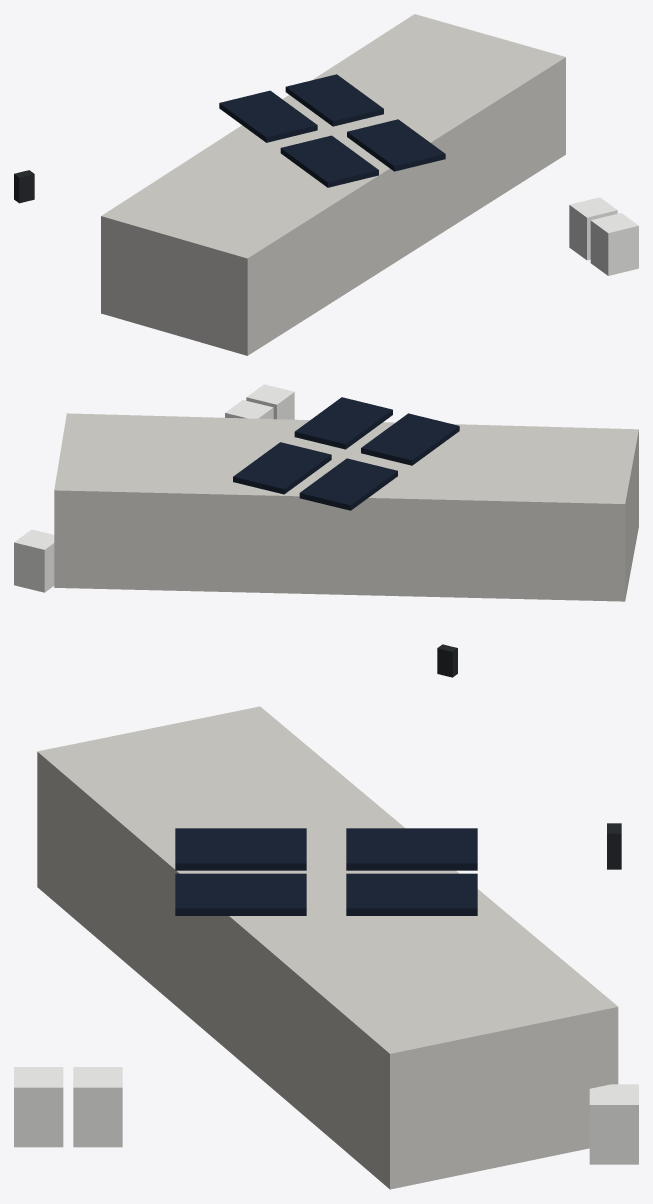
The model's file is spike-house.glb.
3 views of the same model, one above another, from view 1: azimuth 30°, elevation 25°; view 2: azimuth 150°, elevation 25°; view 3: azimuth 270°, elevation 25° (orthographic). The views are drawn at different scales.
Visible parts, largest first — view 1: Building_Shell, PV_Panel_02, PV_Panel_01, PV_Panel_03, PV_Panel_00, Battery_00, Battery_01, Wallbox; view 2: Building_Shell, PV_Panel_02, PV_Panel_00, PV_Panel_01, PV_Panel_03, HeatPump, Battery_00, Battery_01, Wallbox; view 3: Building_Shell, PV_Panel_00, PV_Panel_01, PV_Panel_02, PV_Panel_03, Battery_01, Battery_00, HeatPump, Wallbox.
Part boxes in pixels (<box>): Building_Shell: <box>101,14,565,355</box>; PV_Panel_02: <box>219,90,317,142</box>; PV_Panel_01: <box>347,119,445,171</box>; PV_Panel_03: <box>285,74,383,126</box>; PV_Panel_00: <box>280,135,378,187</box>; Battery_00: <box>590,213,638,275</box>; Battery_01: <box>569,197,617,260</box>; Wallbox: <box>14,170,34,203</box>; Building_Shell: <box>54,413,638,601</box>; PV_Panel_02: <box>299,458,397,510</box>; PV_Panel_00: <box>361,413,459,465</box>; PV_Panel_01: <box>294,397,392,449</box>; PV_Panel_03: <box>233,442,331,494</box>; HeatPump: <box>14,529,54,592</box>; Battery_00: <box>246,384,294,419</box>; Battery_01: <box>225,400,273,418</box>; Wallbox: <box>437,644,457,677</box>; Building_Shell: <box>37,706,618,1189</box>; PV_Panel_00: <box>175,828,306,870</box>; PV_Panel_01: <box>175,873,306,915</box>; PV_Panel_02: <box>346,828,477,870</box>; PV_Panel_03: <box>346,873,477,915</box>; Battery_01: <box>73,1067,122,1147</box>; Battery_00: <box>14,1067,63,1147</box>; HeatPump: <box>589,1084,638,1164</box>; Wallbox: <box>607,823,621,869</box>.
Size of the model in its own units: 65.93 by 12.99 by 50.11.
